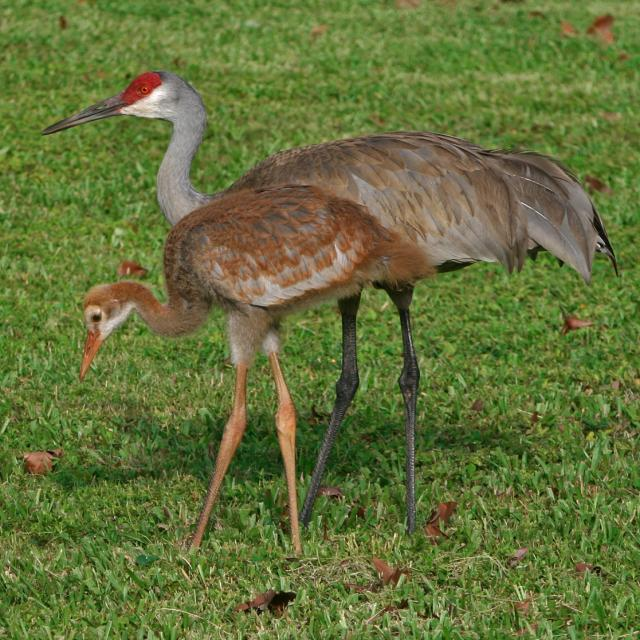bird: (29, 54, 615, 535), (61, 204, 430, 571)
